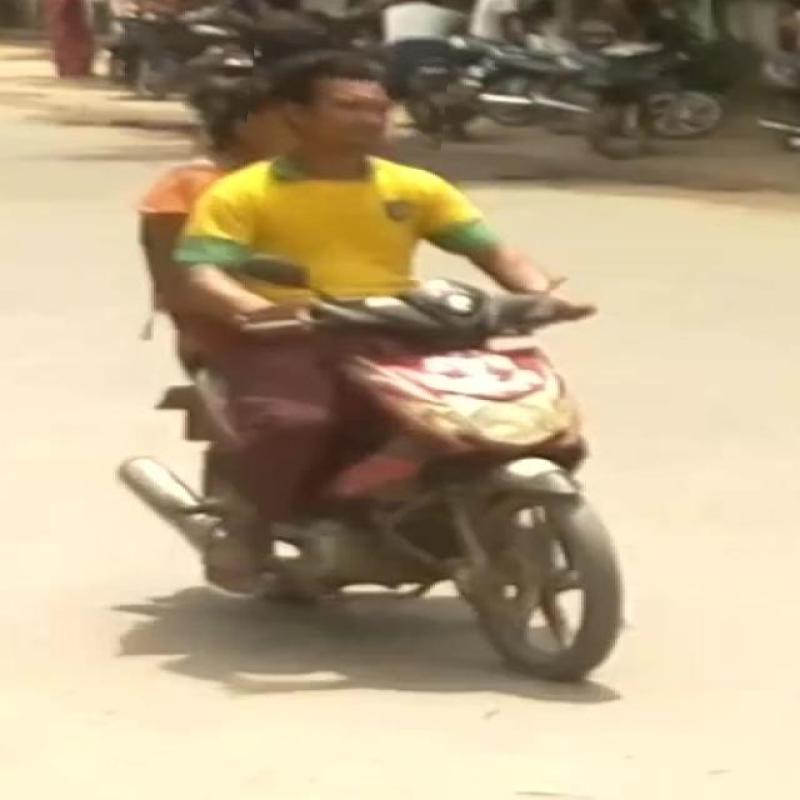nohelmet: (248, 45, 448, 147)
